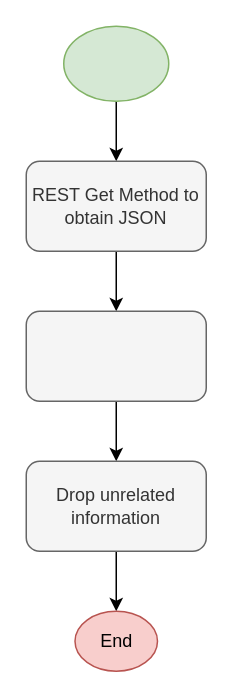
The diagram is 233 pixels wide and 698 high, and some of its shapes have lost their labels. Here are the shapes that lost their labels. From the top down, the centre of each, then its label:
At (115,63): "Start".
At (115,355): "Parse JSON file and import into a Pandas DataFrame".
